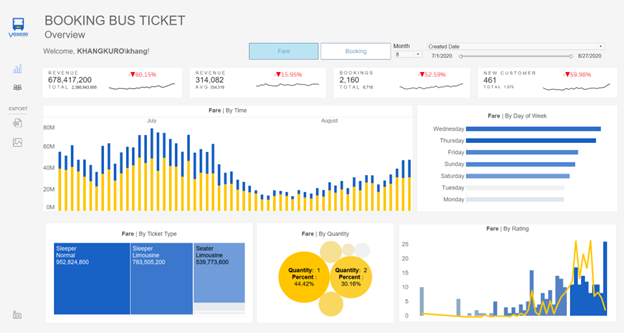

The dashboard page shown, as its layout file describes it:
{"tool":"tableau","page":{"name":"Overview","canvas":[1000,1000],"units":"permille","ordinal":2},"visuals":[{"type":"blank","box":[6.2,0,54.2,64.5]},{"type":"blank","box":[60.5,0,19.9,950.4]},{"type":"text","box":[80.4,49.6,907.1,57.1]},{"type":"image","param":"Image/images.png","box":[6.2,64.5,54.2,94.3]},{"type":"text","box":[80.4,106.7,907.1,52.1]},{"type":"blank","box":[6.2,158.8,54.2,1.2]},{"type":"text","box":[80.4,158.8,330.4,73.2]},{"type":"blank","box":[410.8,158.8,64.2,73.2]},{"type":"worksheet","title":"Button - Fare","mark":"Automatic","box":[475.1,158.8,137.8,73.2]},{"type":"worksheet","title":"Button - Booking","mark":"Automatic","box":[612.8,158.8,139,73.2]},{"type":"parameter","param":"[Parameters].[Parameter 3]","box":[751.9,158.8,62.4,73.2]},{"type":"parameter","param":"[Parameters].[Parameter 7]","box":[814.2,158.8,153.4,36.6]},{"type":"worksheet","title":"Data Filter","mark":"Automatic","box":[967.6,158.8,19.9,73.2]},{"type":"blank","box":[6.2,160.1,54.2,39.7]},{"type":"filter","title":"Revenue Month","param":"[federated.1tlsdsw1sm4tbs10m4z620ociieu].[none:Calculation_810366497912340483:qk","box":[814.2,195.4,153.4,36.6]},{"type":"dashboard-object","box":[6.2,199.8,54.2,88.1]},{"type":"worksheet","title":"TotalRevenue","mark":"Automatic","box":[87.3,264.3,119.1,84.4]},{"type":"worksheet","title":"MTM Total Fare","mark":"Automatic","box":[206.3,264.3,81.7,39.7]},{"type":"worksheet","title":"AVG Revenue","mark":"Automatic","box":[320.4,264.3,119.1,84.4]},{"type":"worksheet","title":"MTM AVG Fare","mark":"Automatic","box":[439.5,264.3,75.5,39.7]},{"type":"worksheet","title":"Total Revenue","mark":"Automatic","box":[547.4,264.3,117.8,84.4]},{"type":"worksheet","title":"MTM Revenue","mark":"Automatic","box":[665.2,264.3,76.7,39.7]},{"type":"worksheet","title":"New User","mark":"Automatic","box":[774.3,264.3,116.6,84.4]},{"type":"worksheet","title":"MTM New User","mark":"Automatic","box":[890.9,264.3,83.5,39.7]},{"type":"text","box":[75.5,278.3,45.3,35.8]},{"type":"dashboard-object","box":[6.2,287.9,54.2,84.4]},{"type":"worksheet","title":"TotalFare(Line)","mark":"Automatic","rows":["Calculation_631911362442158083"],"cols":["created_date","created_date"],"box":[206.3,304,81.7,44.7]},{"type":"worksheet","title":"Total Orders KPI (Area)","mark":"Automatic","rows":["Calculation_631911362442158083"],"cols":["created_date","created_date"],"box":[439.5,304,75.5,44.7]},{"type":"worksheet","title":"Profit KPI (Line)","mark":"Automatic","rows":["Calculation_631911362450616324"],"cols":["created_date","created_date"],"box":[665.2,304,76.7,44.7]},{"type":"worksheet","title":"Total Customers KPI (Area)","mark":"Automatic","rows":["Calculation_631911362461757445"],"cols":["created_date","created_date"],"box":[890.9,304,83.5,44.7]},{"type":"text","box":[6.2,372.2,54.2,62]},{"type":"worksheet","title":"Revenue Month","mark":"Bar","rows":["Calculation_631911362465914887"],"cols":["Calculation_810366497912340483","Calculation_810366497912340483","Calculation_810366497912340483","Calculation_810366497912340483"],"box":[80.4,399.5,712.6,168.7]},{"type":"worksheet","title":"Booking By DoW","mark":"Bar","rows":["day_of_week_created"],"cols":["Calculation_631911362465914887"],"box":[793,399.5,194.5,168.7]},{"type":"blank","box":[6.2,434.3,54.2,1.2]},{"type":"dashboard-object","box":[6.2,435.5,54.2,74.4]},{"type":"dashboard-object","box":[6.2,509.9,54.2,74.4]},{"type":"blank","box":[80.4,568.2,907.1,39.7]},{"type":"blank","box":[6.2,584.4,54.2,148.9]},{"type":"worksheet","title":"Booking By TicketType","mark":"Automatic","box":[80.4,608,411.5,342.4]},{"type":"worksheet","title":"Sales | By Category","mark":"Circle","box":[491.9,608,269.9,342.4]},{"type":"worksheet","title":"Rating","mark":"Automatic","rows":["Company_151B18EFDCE9499CA271CBE1101FBDEA","Calculation_631911362465914887"],"cols":["bus_rating"],"box":[761.8,608,225.7,342.4]},{"type":"blank","box":[6.2,733.3,54.2,151.3]},{"type":"image","param":"Image/linkedin (1).png","box":[6.2,884.6,54.2,65.8]}]}

Visuals, with their boxes on the dashboard's canvas, which has no fixed pixel size, in thousandths of its width and height (x1, y1, x2, y2). These are canvas units, not pixel positions in the 624x333 screenshot, which may show the page scaled, cropped or inside an application window:
blank: box=[6, 0, 60, 64]
blank: box=[60, 0, 80, 950]
text: box=[80, 50, 988, 107]
image: box=[6, 64, 60, 159]
text: box=[80, 107, 988, 159]
blank: box=[6, 159, 60, 160]
text: box=[80, 159, 411, 232]
blank: box=[411, 159, 475, 232]
"Button - Fare" worksheet: box=[475, 159, 613, 232]
"Button - Booking" worksheet: box=[613, 159, 752, 232]
parameter: box=[752, 159, 814, 232]
parameter: box=[814, 159, 968, 195]
"Data Filter" worksheet: box=[968, 159, 988, 232]
blank: box=[6, 160, 60, 200]
"Revenue Month" filter: box=[814, 195, 968, 232]
dashboard-object: box=[6, 200, 60, 288]
"TotalRevenue" worksheet: box=[87, 264, 206, 349]
"MTM Total Fare" worksheet: box=[206, 264, 288, 304]
"AVG Revenue" worksheet: box=[320, 264, 440, 349]
"MTM AVG Fare" worksheet: box=[440, 264, 515, 304]
"Total Revenue" worksheet: box=[547, 264, 665, 349]
"MTM Revenue" worksheet: box=[665, 264, 742, 304]
"New User" worksheet: box=[774, 264, 891, 349]
"MTM New User" worksheet: box=[891, 264, 974, 304]
text: box=[76, 278, 121, 314]
dashboard-object: box=[6, 288, 60, 372]
"TotalFare(Line)" worksheet: box=[206, 304, 288, 349]
"Total Orders KPI (Area)" worksheet: box=[440, 304, 515, 349]
"Profit KPI (Line)" worksheet: box=[665, 304, 742, 349]
"Total Customers KPI (Area)" worksheet: box=[891, 304, 974, 349]
text: box=[6, 372, 60, 434]
"Revenue Month" worksheet (Bar marks): box=[80, 400, 793, 568]
"Booking By DoW" worksheet (Bar marks): box=[793, 400, 988, 568]
blank: box=[6, 434, 60, 436]
dashboard-object: box=[6, 436, 60, 510]
dashboard-object: box=[6, 510, 60, 584]
blank: box=[80, 568, 988, 608]
blank: box=[6, 584, 60, 733]
"Booking By TicketType" worksheet: box=[80, 608, 492, 950]
"Sales | By Category" worksheet (Circle marks): box=[492, 608, 762, 950]
"Rating" worksheet: box=[762, 608, 988, 950]
blank: box=[6, 733, 60, 885]
image: box=[6, 885, 60, 950]
